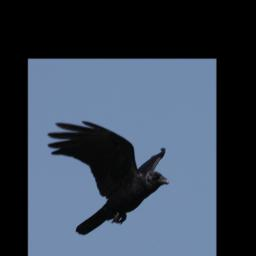Crow: (47, 119, 171, 236)
